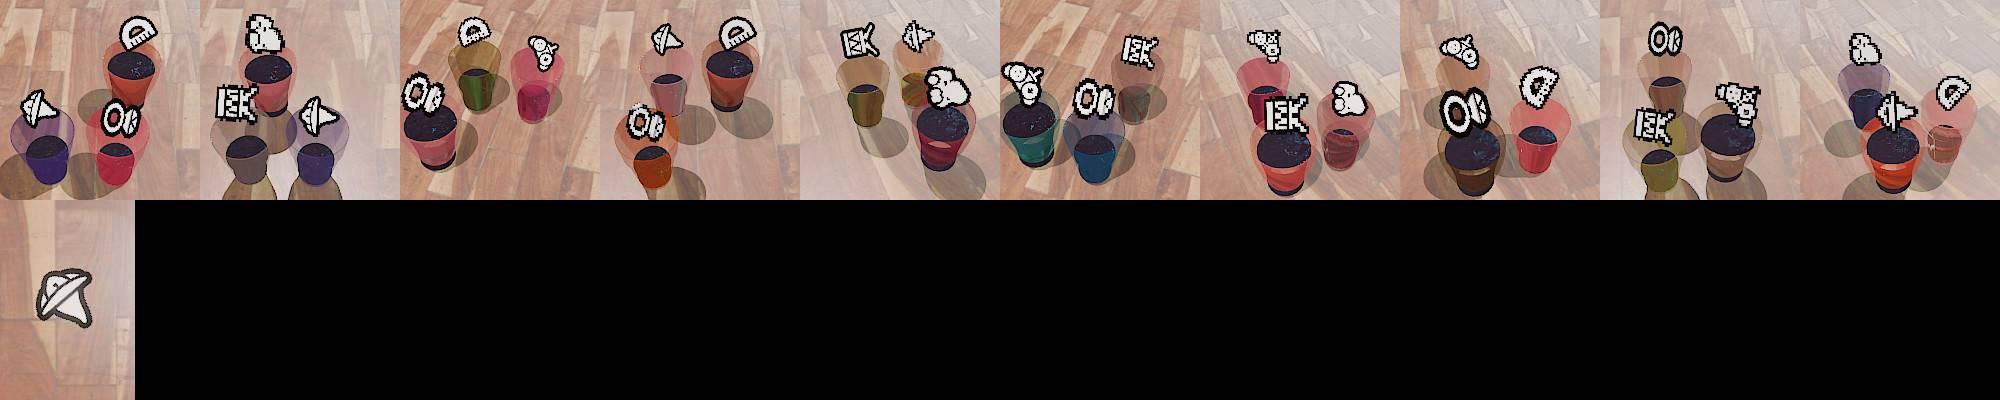icon: (35, 268, 95, 328), (1437, 86, 1490, 136), (1713, 80, 1762, 127), (1070, 77, 1119, 123), (402, 71, 448, 117), (1263, 91, 1311, 135), (1001, 61, 1046, 107), (1874, 90, 1919, 135), (924, 65, 969, 109), (215, 82, 260, 124), (1518, 65, 1560, 109), (244, 13, 287, 55), (298, 94, 340, 137), (625, 102, 668, 142), (1634, 106, 1677, 146), (99, 99, 142, 138), (1439, 34, 1481, 72), (20, 88, 59, 128), (717, 16, 758, 54), (118, 15, 158, 53), (840, 22, 879, 59), (1119, 33, 1158, 70), (1330, 80, 1368, 117), (1936, 74, 1972, 113), (1647, 21, 1683, 58), (526, 34, 560, 71), (1246, 28, 1283, 61), (1848, 31, 1881, 67), (457, 15, 492, 48), (902, 19, 935, 53), (651, 23, 684, 56), (1264, 98, 1279, 132)
